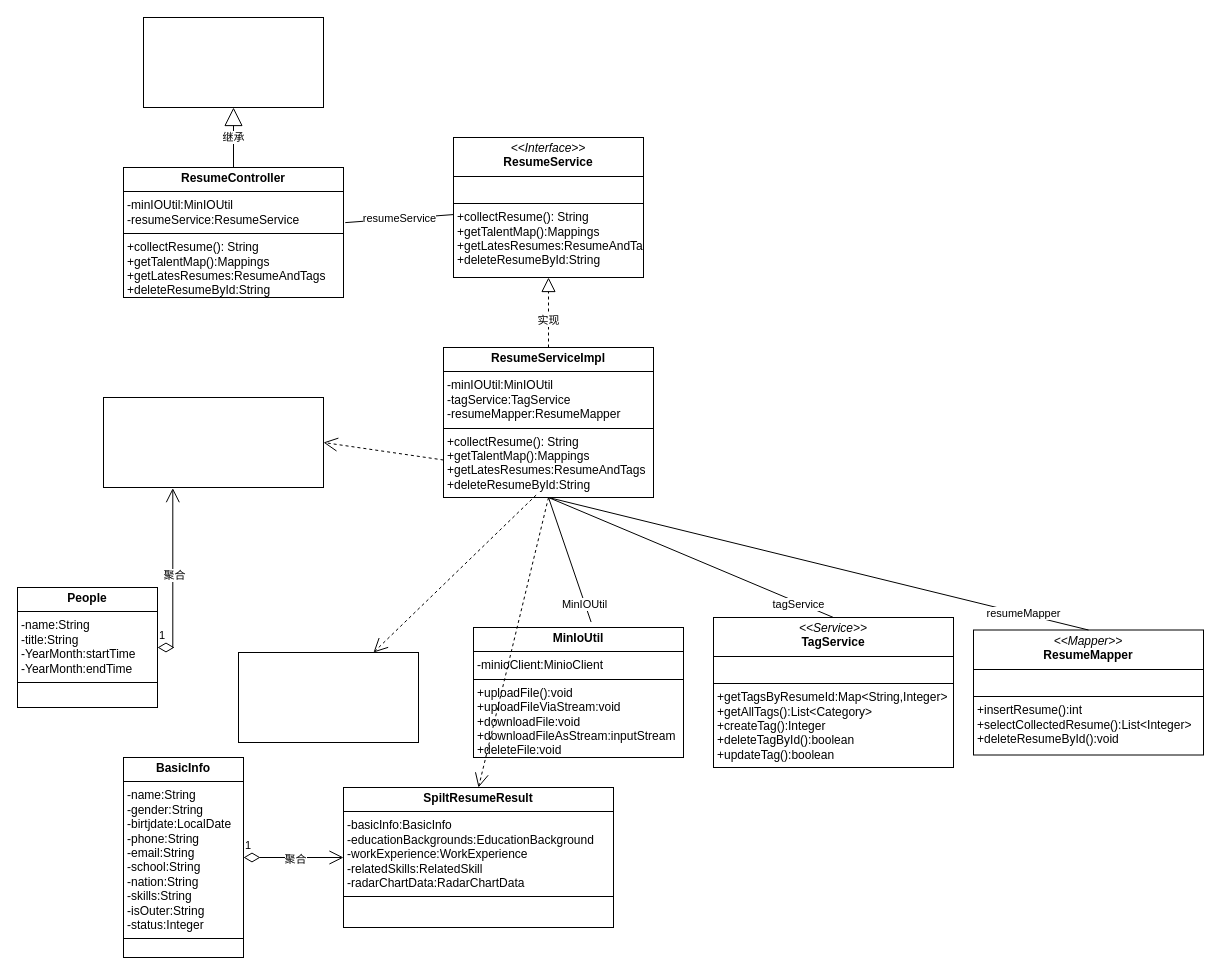
Image size: 1221x975. Some labels were removed from this diagram. Each missing label, with the centre of its shape:
BaseController + getDataTable(): TableDataInfo: the point at 233,62
Mappings -companyName:String -mappingList:List<Map<String,People>>: the point at 213,442
ResultCollect -userId:Integer -resumeId:Integer: the point at 328,697
